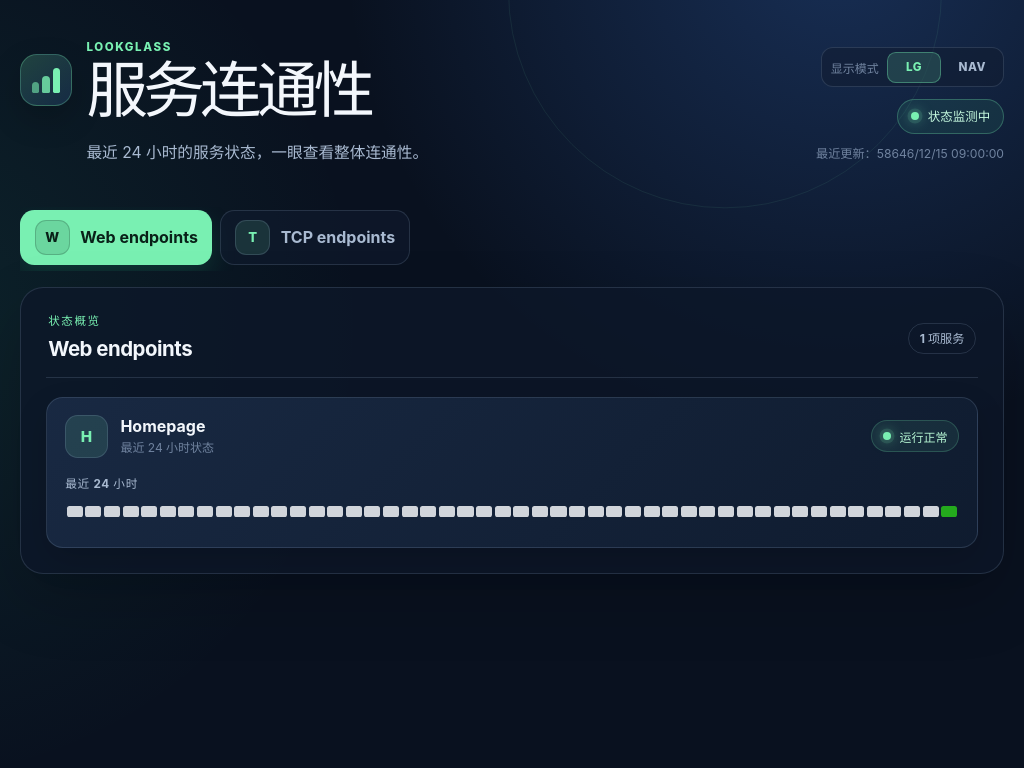
Scenario: DashboardPage › switches to NAV mode with links only on configured sites
Click the button "NAV" at (972,67), box 945,52 -> 1000,83
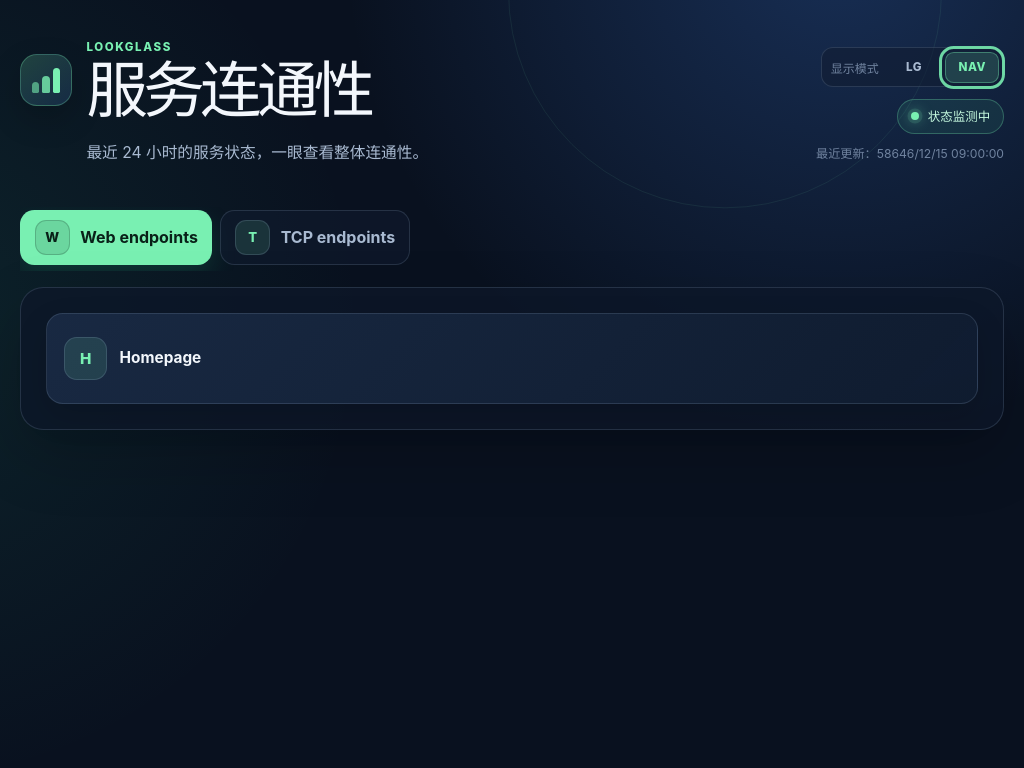
expect the button with test id "sample-cell" is gone: met
